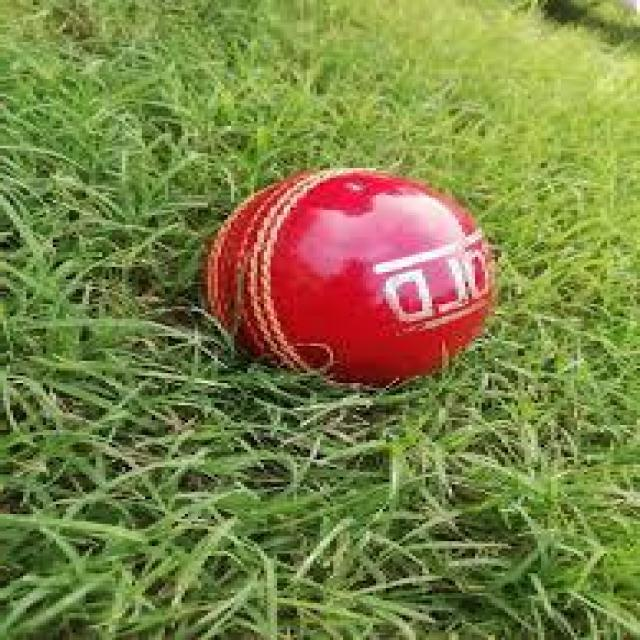ball: (195, 171, 494, 383)
